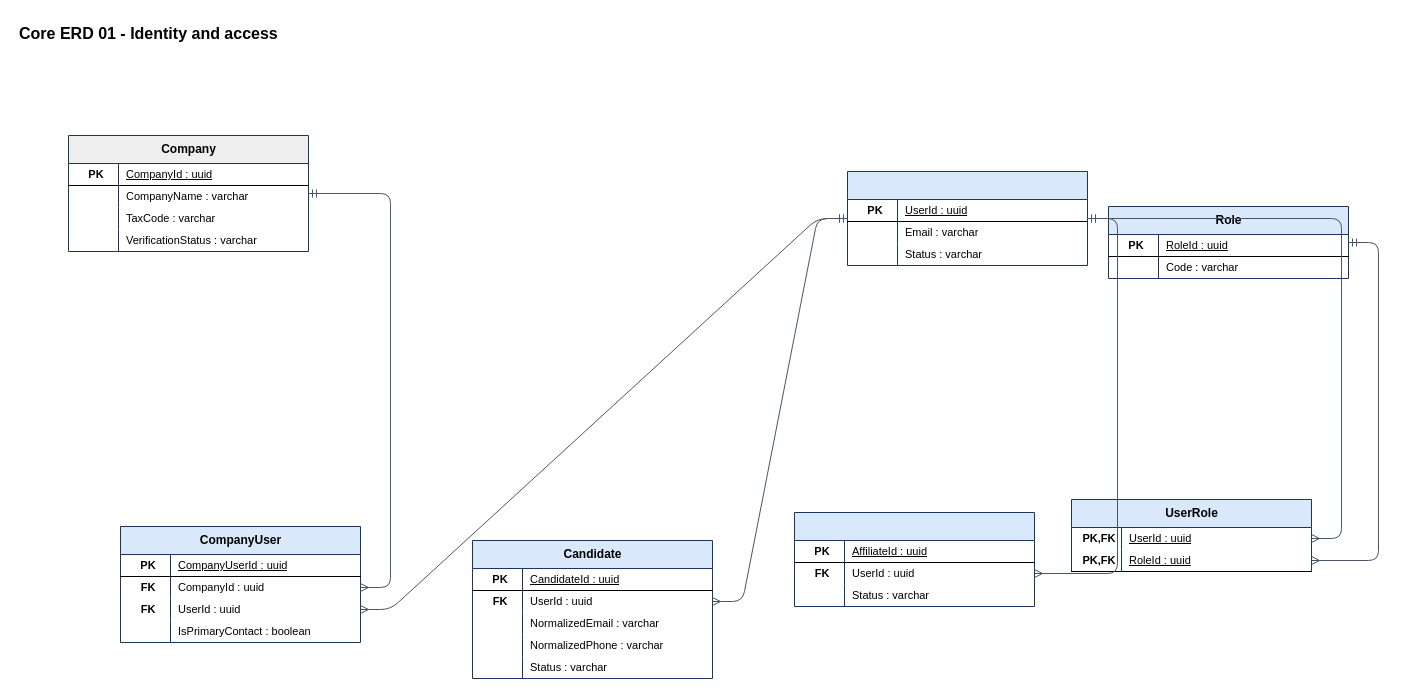
This 1405x696 diagram has some shape labels left out. The shapes that lost their labels are listed below. From the top down, each one's box as (x1, y1, x2, y2) in pixels, then its label:
(846, 170, 1088, 266): AppUser
(794, 512, 1034, 606): AffiliateProfile
